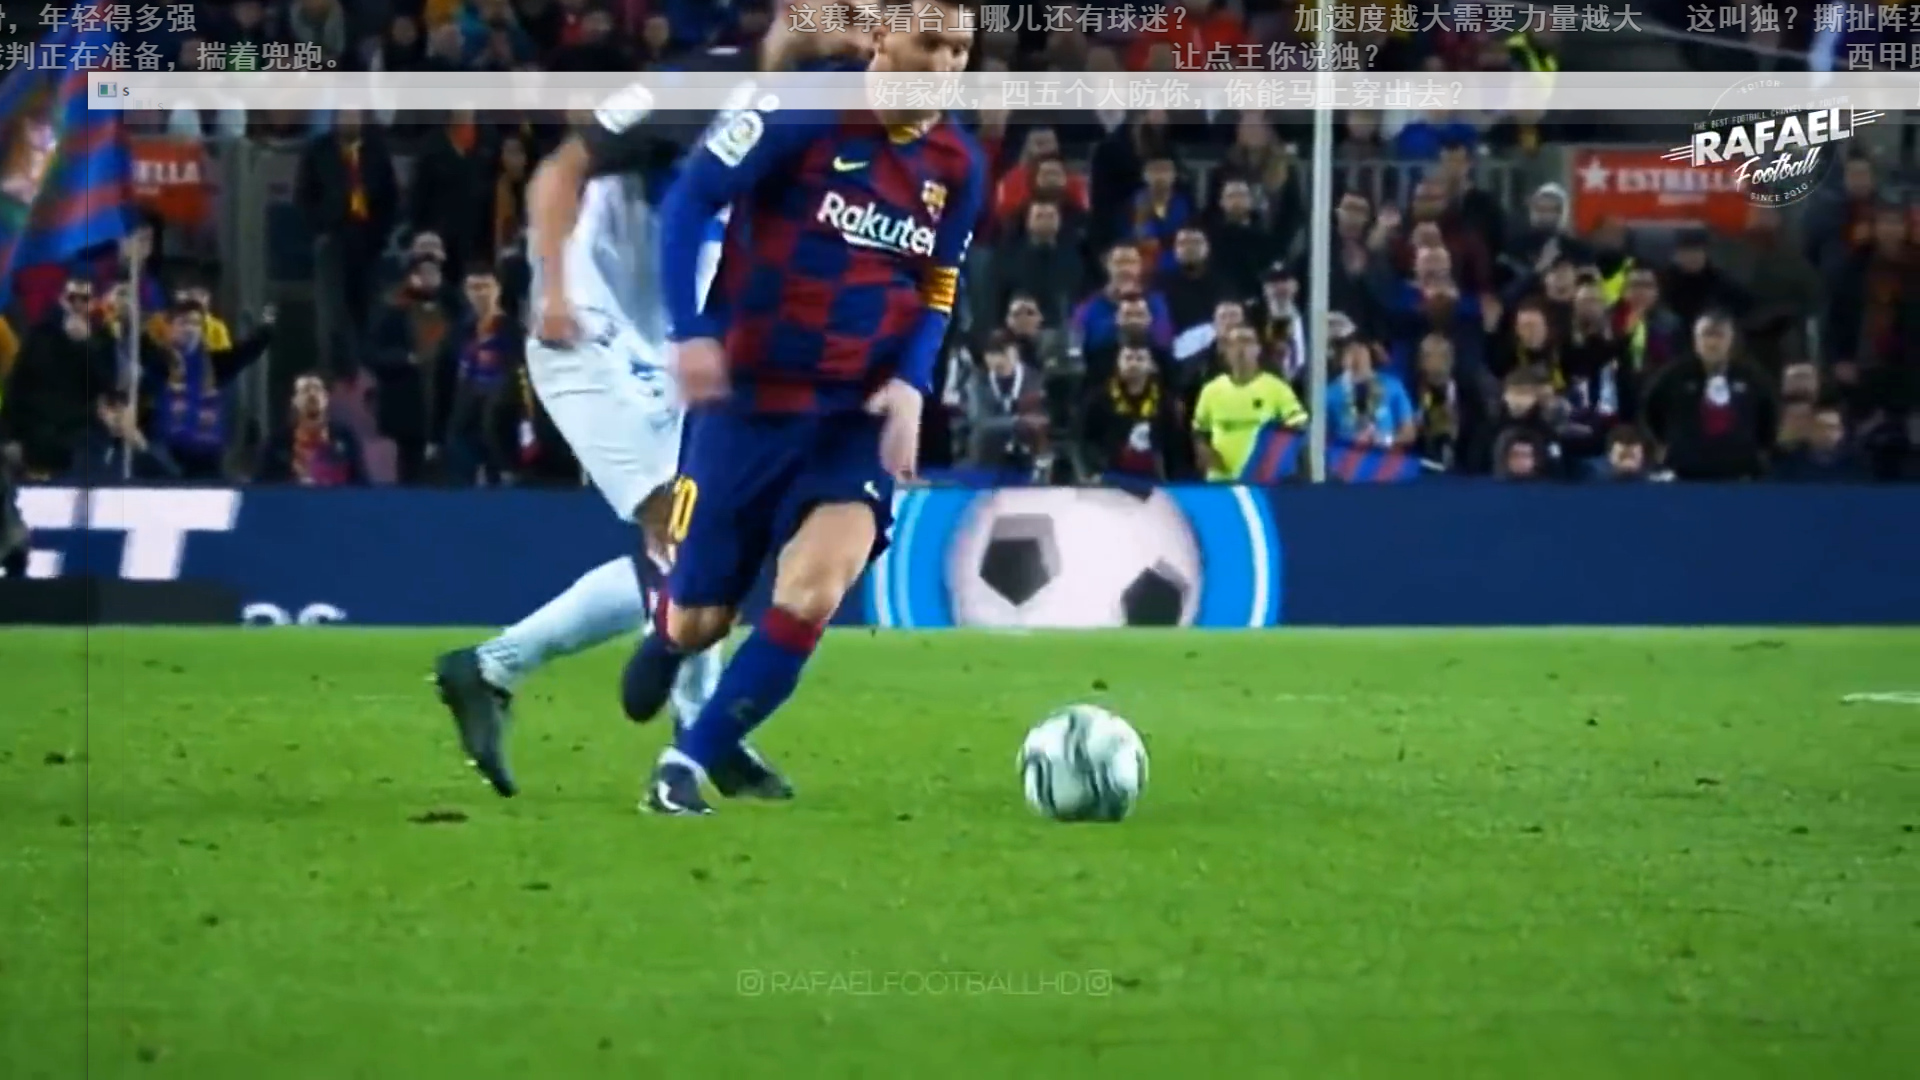ft: (1007, 702, 1162, 835)
